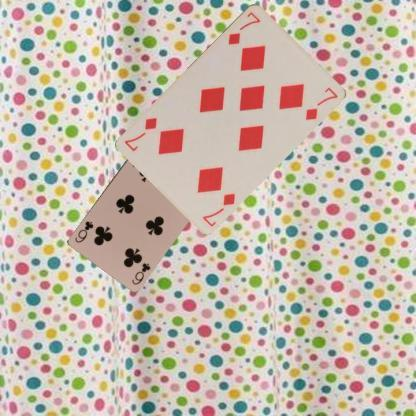6c: (130, 260, 152, 286)
7d: (225, 9, 262, 46), (200, 190, 236, 228)
